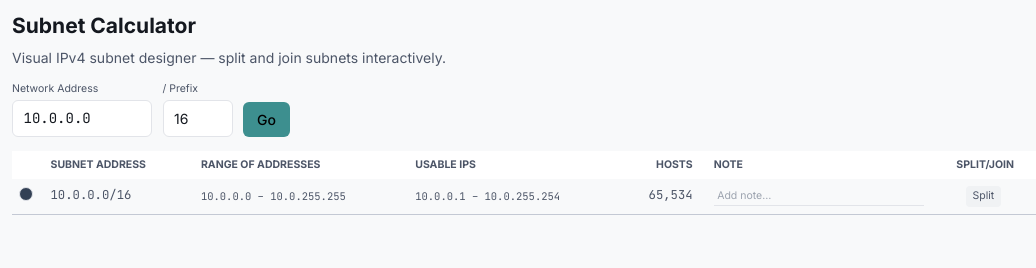
Scenario: SubnetCalculator › clicking split creates two rows
Click the button "Split" at point(983, 196), box top-left (966, 186), bottom-right (1001, 206)
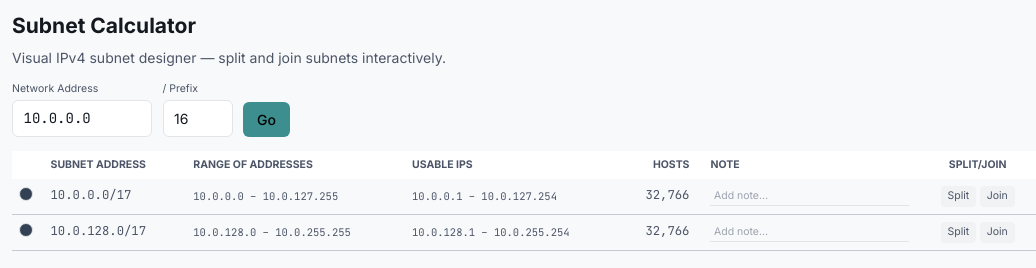
Now the text "10.0.0.0/17" is shown, box top-left (40, 178), bottom-right (183, 214)
Now the text "10.0.128.0/17" is shown, box top-left (40, 214), bottom-right (183, 250)
